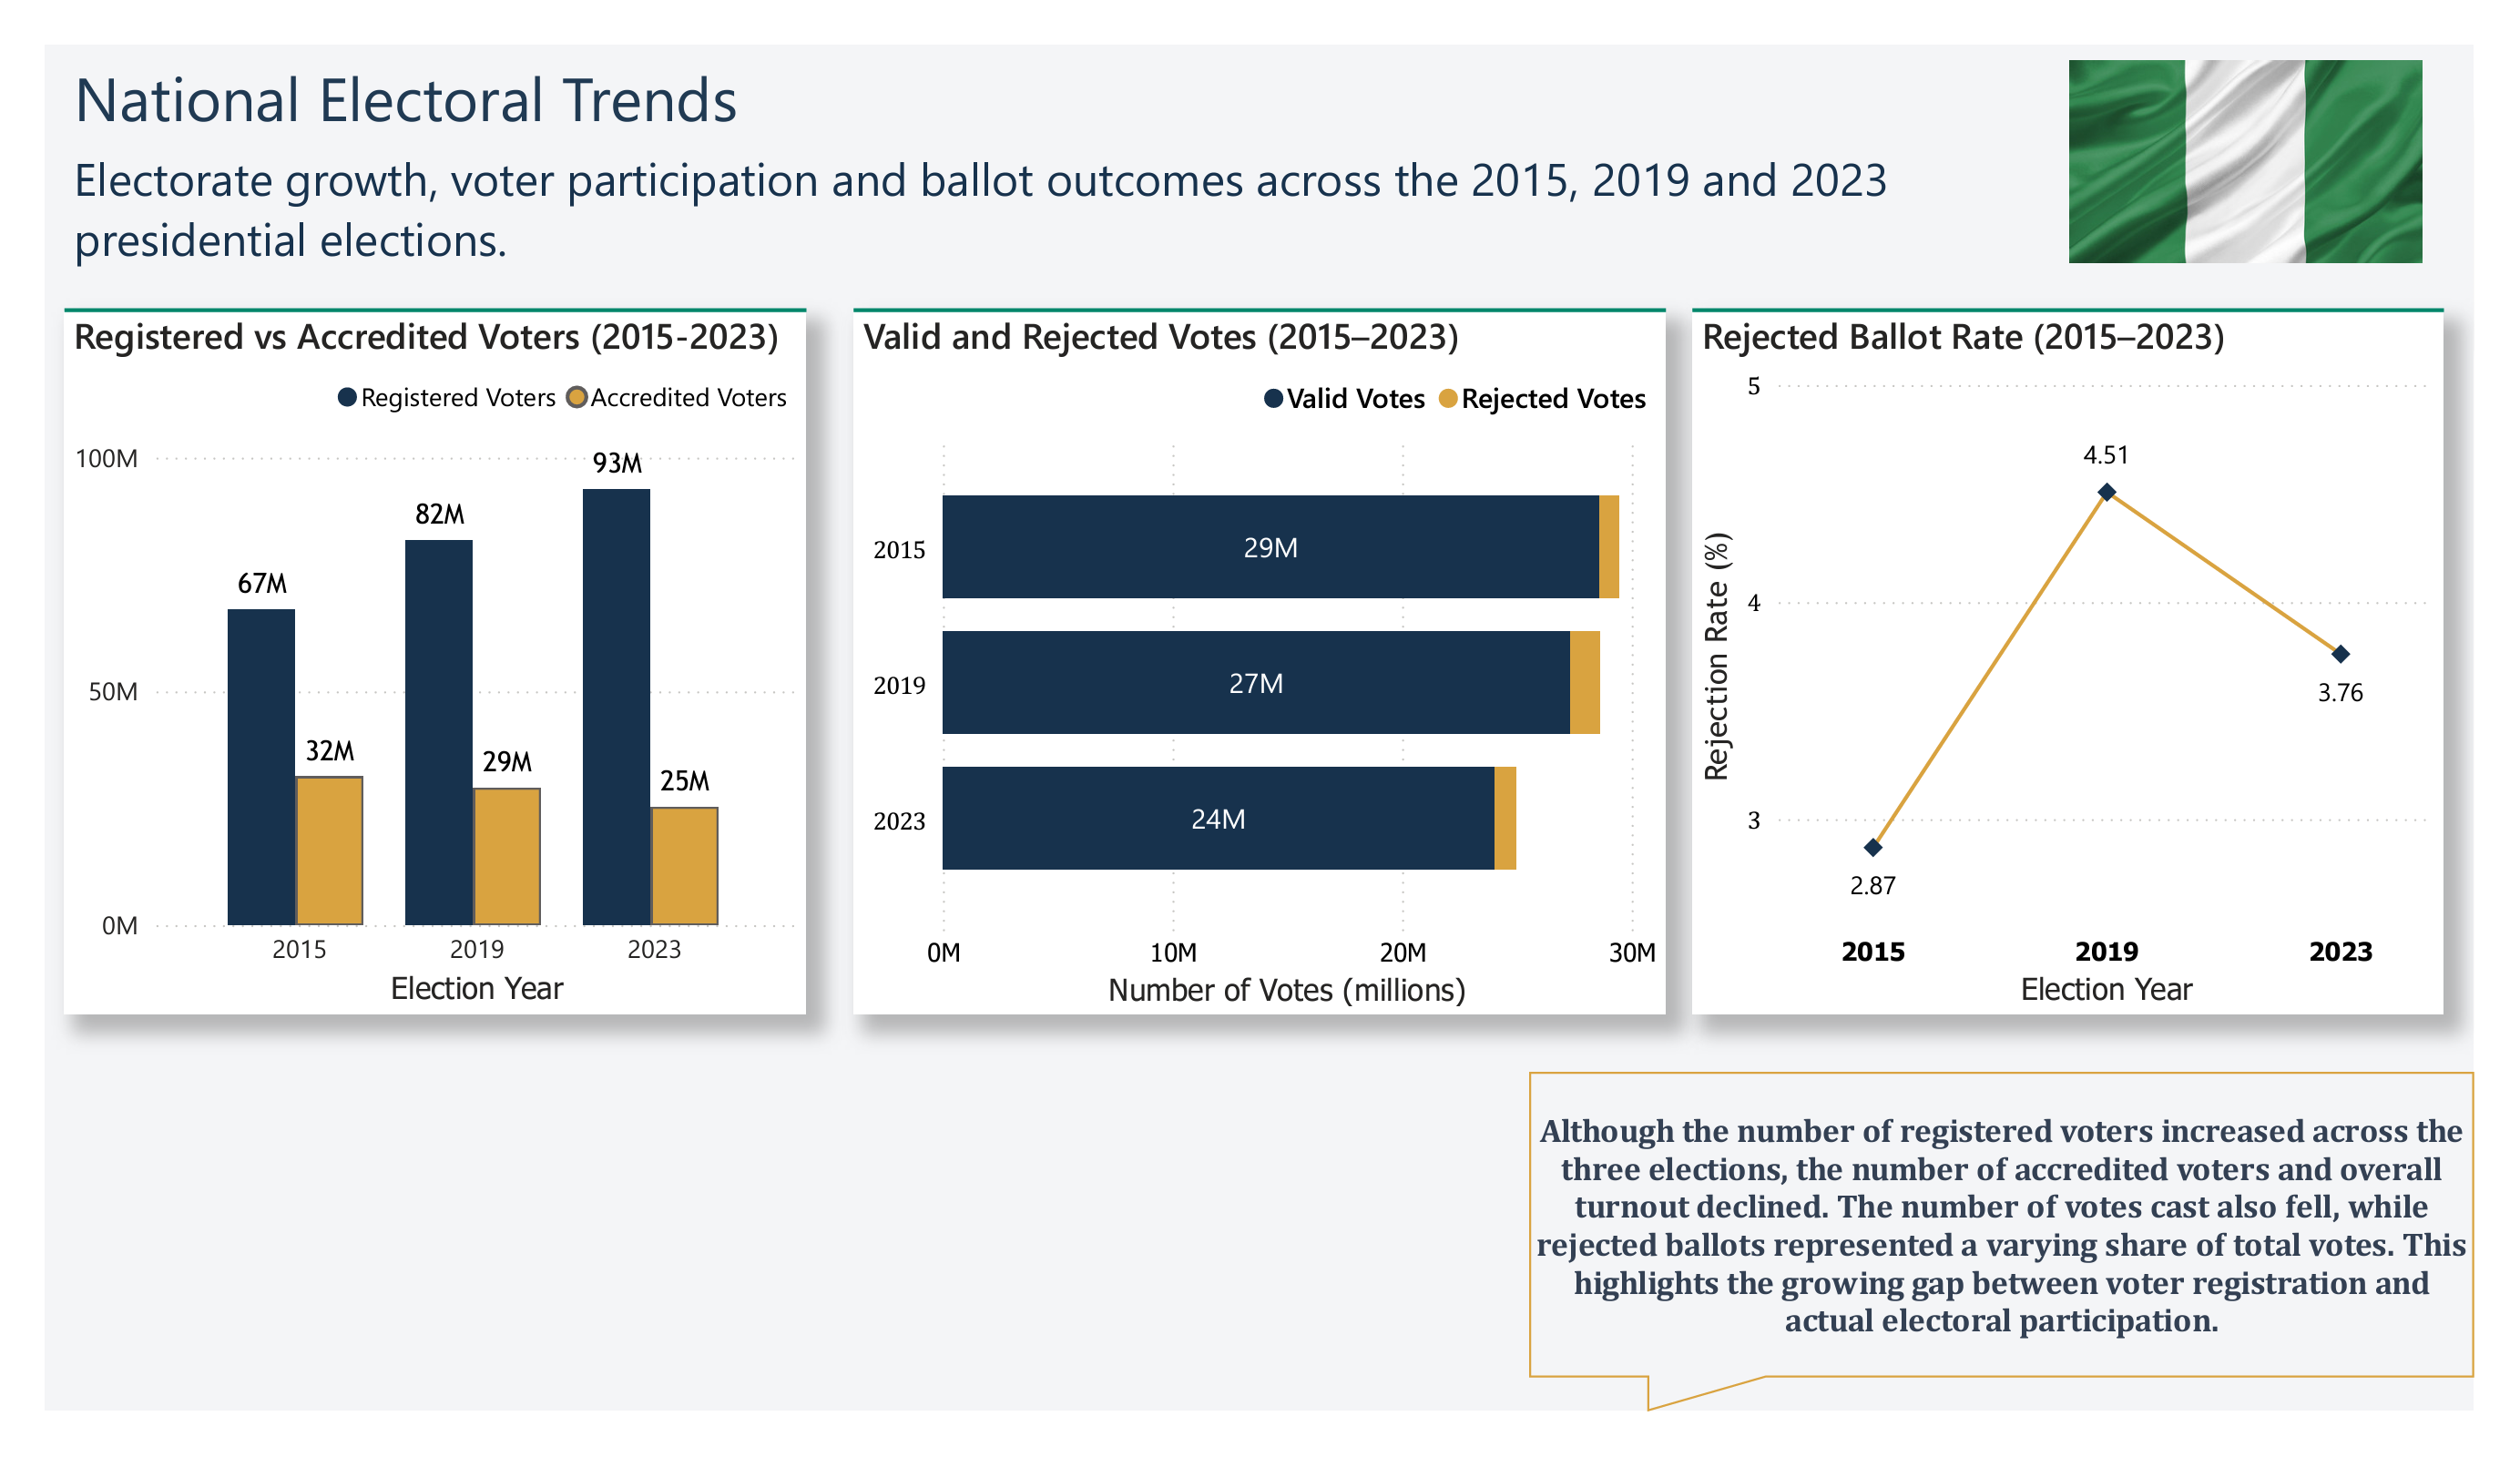

What the dashboard file says about the page in this screenshot:
{"tool":"powerbi","page":{"name":"NATIONAL ELECTORAL TRENDS","canvas":[1280,720],"ordinal":1},"visuals":[{"type":"textbox","box":[10.5,0,391.4,59.8],"z":0},{"type":"textbox","box":[10.3,48.5,1081.5,74.9],"z":1000},{"type":"clusteredColumnChart","title":"Registered vs Accredited Voters (2015-2023)","fields":{"Category":["dim_election.election_year"],"Y":["fact_state_election.National Registered Voters","fact_state_election.National Accredited Voters"]},"box":[10.3,139.6,390.9,371.8],"z":2000},{"type":"shape","box":[10.3,123.4,390.9,32.3],"z":3000},{"type":"barChart","title":"Valid and Rejected Votes (2015–2023)","fields":{"Category":["dim_election.election_year"],"Y":["fact_state_election.National Valid Votes","fact_state_election.National Rejected Votes"]},"box":[426.1,139.6,427.6,371.8],"z":4000},{"type":"shape","box":[426.1,123.4,427.6,32.3],"z":5000},{"type":"lineChart","title":"Rejected Ballot Rate (2015–2023)","fields":{"Category":["dim_election.election_year"],"Y":["fact_state_election.National Rejection Rate (%)"]},"box":[868.4,139.6,395.3,371.8],"z":6000},{"type":"shape","box":[868.4,123.4,395.3,32.3],"z":7000},{"type":"image","box":[1066.8,0,186.6,123.4],"z":8000},{"type":"shape","box":[781.7,540.7,498.1,179.3],"z":9000}]}

Visuals, with their boxes on the page's 1280x720 design canvas (x1, y1, x2, y2). These are canvas units, not pixel positions in the 2520x1457 screenshot, which may show the page scaled, cropped or inside an application window:
textbox: 10,0,402,60
textbox: 10,48,1092,123
"Registered vs Accredited Voters (2015-2023)" clusteredColumnChart: 10,140,401,511
shape: 10,123,401,156
"Valid and Rejected Votes (2015–2023)" barChart: 426,140,854,511
shape: 426,123,854,156
"Rejected Ballot Rate (2015–2023)" lineChart: 868,140,1264,511
shape: 868,123,1264,156
image: 1067,0,1253,123
shape: 782,541,1280,720
